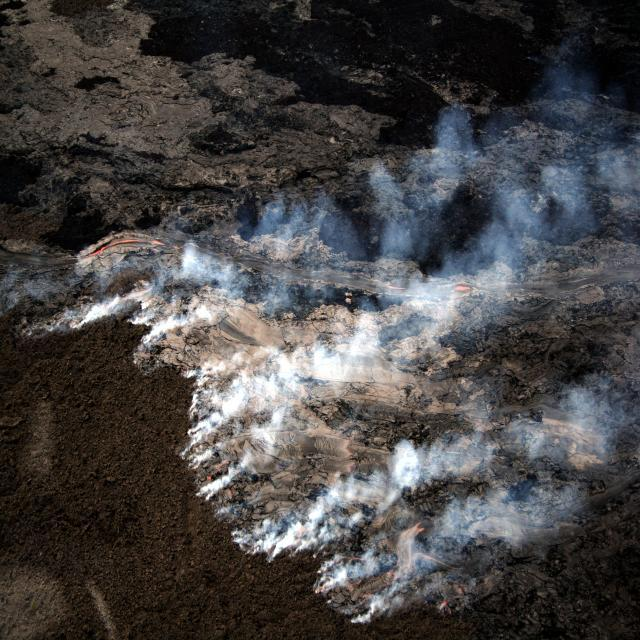Smoke: (278, 55, 617, 568), (158, 215, 464, 505)
